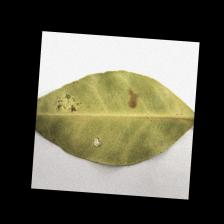canker: (50, 92, 149, 153)
